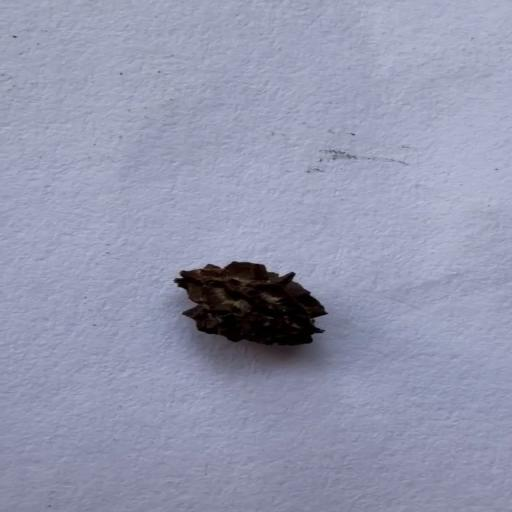papaya_seed: (164, 258, 331, 350)
